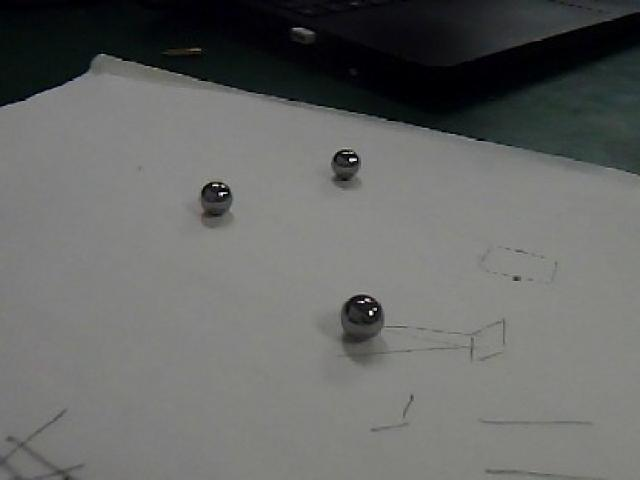steel-ball: (326, 282, 400, 363), (323, 126, 375, 186), (186, 169, 240, 220)
